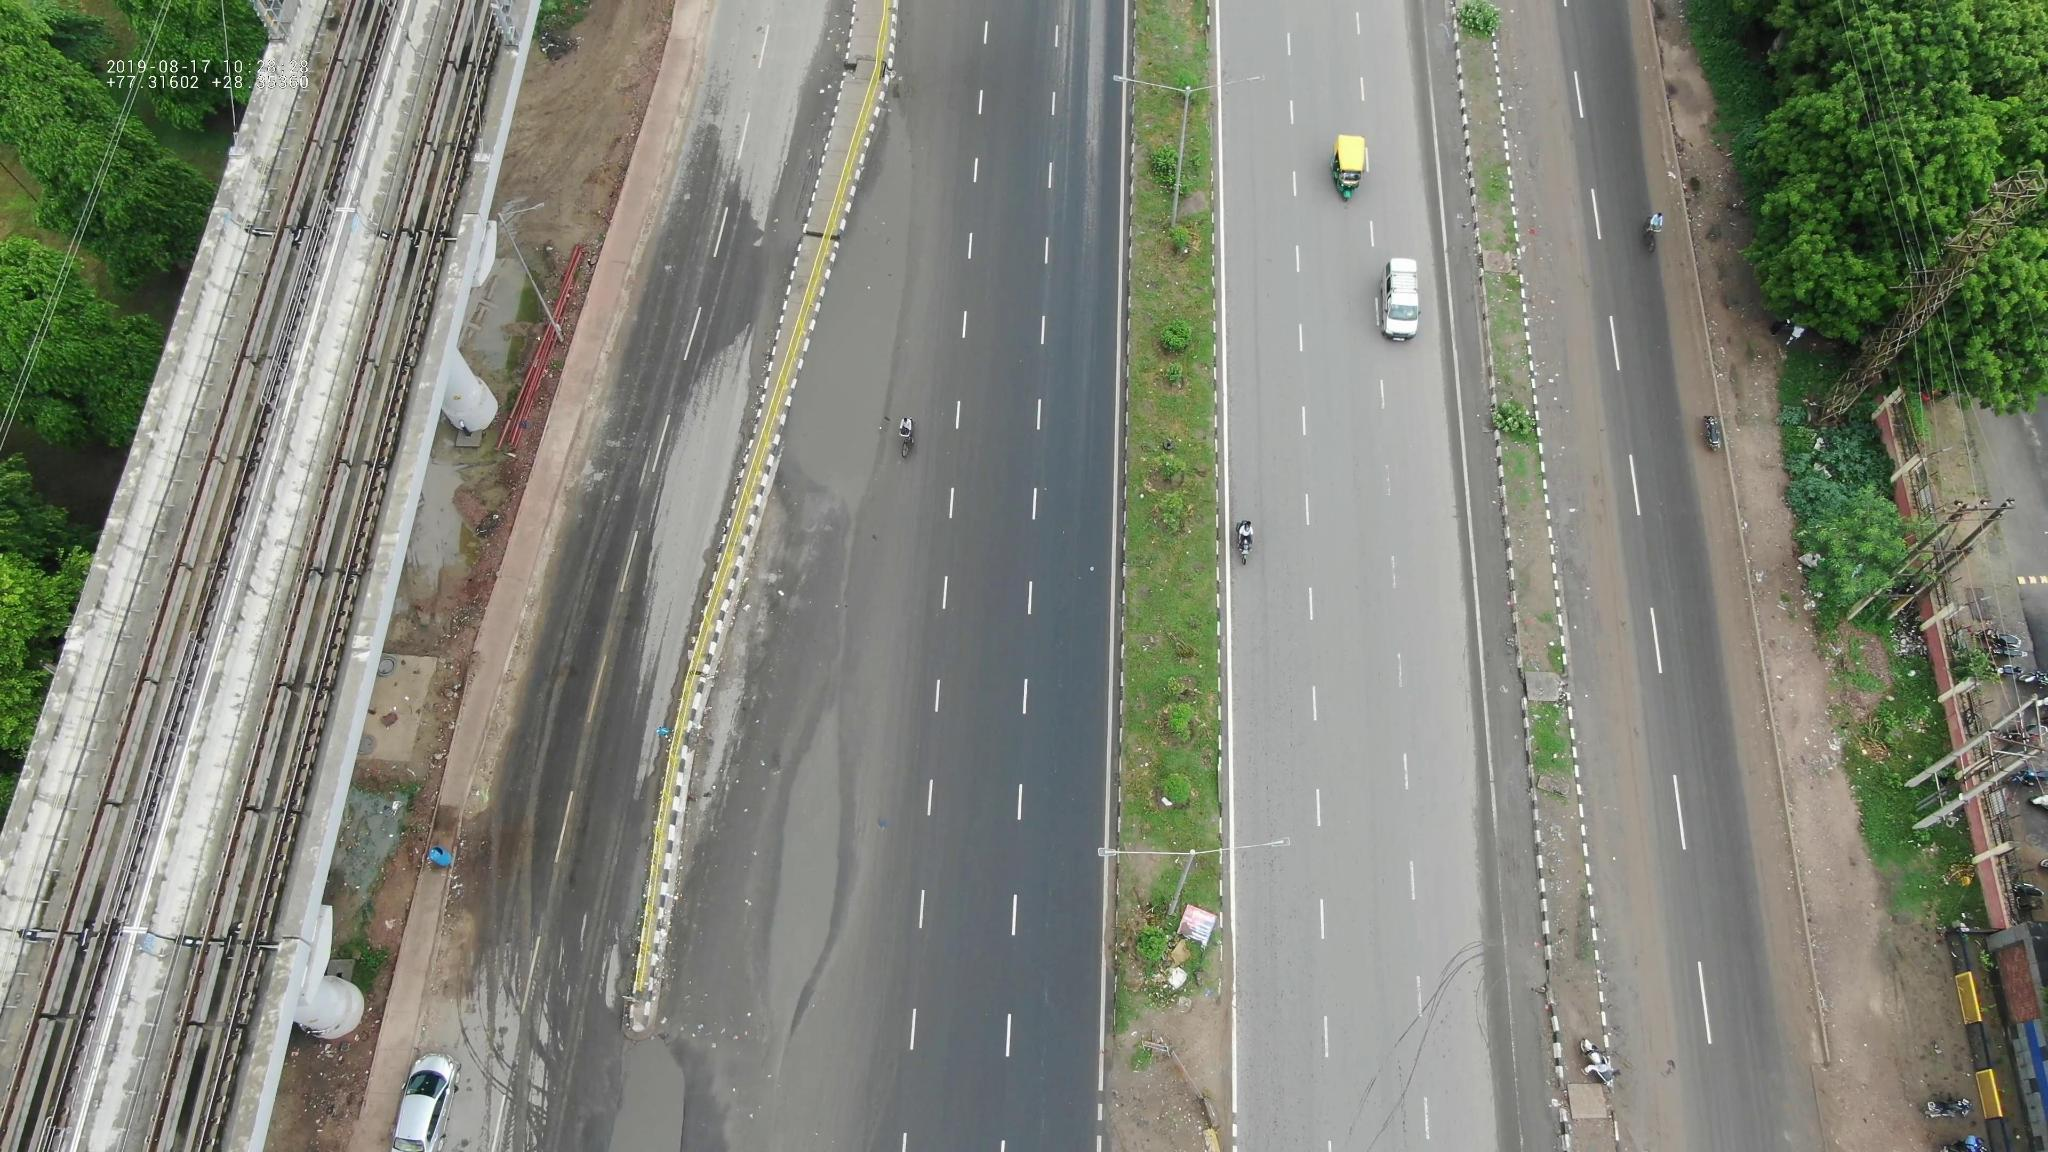Muddy_road: (1561, 549, 1651, 831), (1532, 277, 1618, 539), (1606, 848, 1677, 1129), (1502, 44, 1588, 264)
Potholes: (740, 679, 878, 1047)
Waterlogging: (771, 141, 931, 518)
